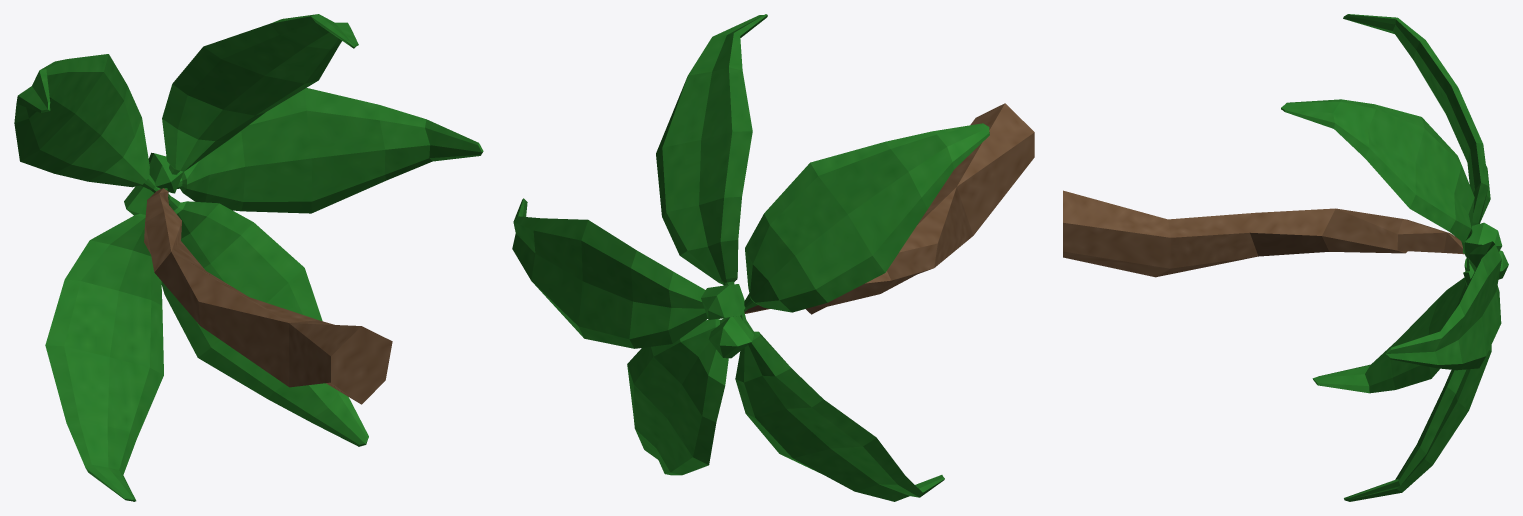
File: all_share_tree_7.FBX
3 renders of one model, left to right at view 1: azimuth 30°, elevation 25°; view 2: azimuth 150°, elevation 25°; view 3: azimuth 270°, elevation 25°, orthographic. The views are drawn at different scales.
Parts seen in each view (by area): view 1: tree_8; view 2: tree_8; view 3: tree_8.
Boxes of the visible parts, x1,y1,x2,y2 form: tree_8: [14, 14, 483, 501]; tree_8: [512, 14, 1034, 501]; tree_8: [1063, 14, 1508, 501].
Bounding box in the file's own units: 159 × 147 × 155.
